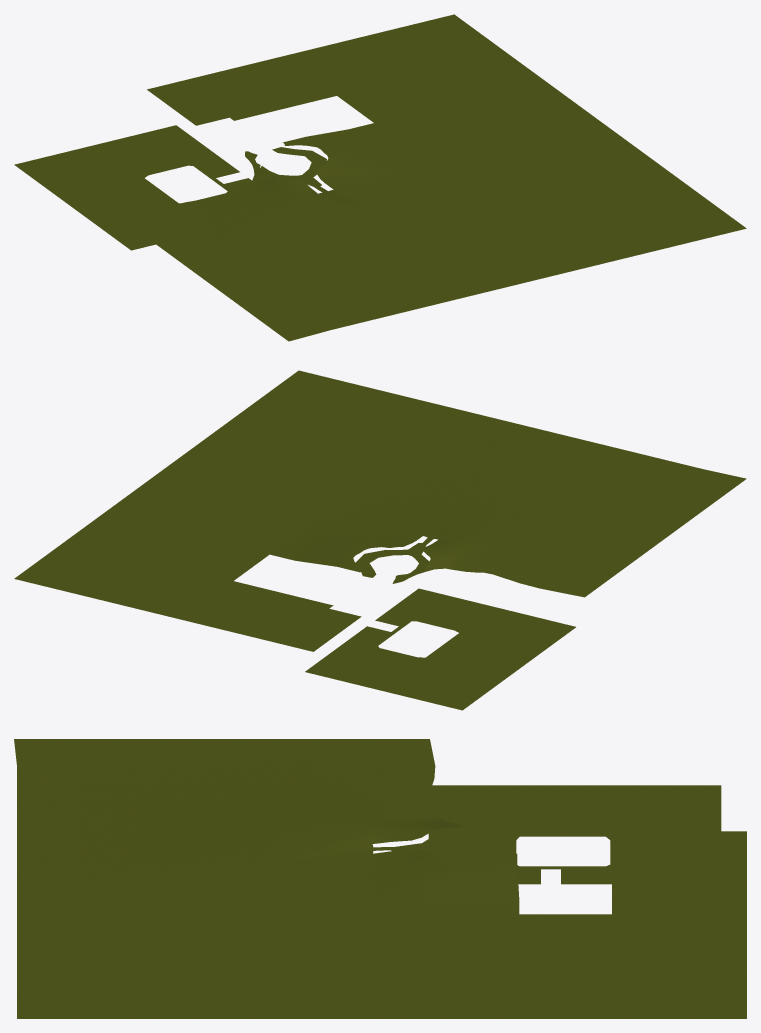
Rendered from SM_ZSJ_Terrain002.FBX.
3 views of the same model, one above another, from view 1: azimuth 30°, elevation 25°; view 2: azimuth 150°, elevation 25°; view 3: azimuth 270°, elevation 25° (orthographic). The views are drawn at different scales.
Visible parts, largest first — view 1: SM_ZSJ_Terrain002; view 2: SM_ZSJ_Terrain002; view 3: SM_ZSJ_Terrain002.
Boxes of the visible parts, x1=… form: SM_ZSJ_Terrain002: x1=14, y1=14, x2=746, y2=341; SM_ZSJ_Terrain002: x1=14, y1=370, x2=746, y2=710; SM_ZSJ_Terrain002: x1=14, y1=739, x2=746, y2=1018.
Size of the model in its own units: 13167 by 999 by 14584.
